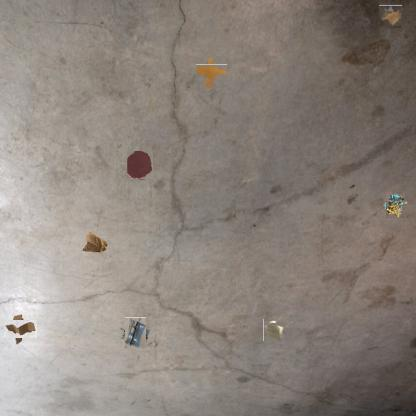dirty: (80, 231, 110, 255), (122, 320, 149, 346), (7, 316, 33, 342), (379, 5, 402, 27), (384, 194, 406, 216), (263, 319, 284, 341)
liquid: (127, 151, 153, 179), (199, 60, 224, 85)
